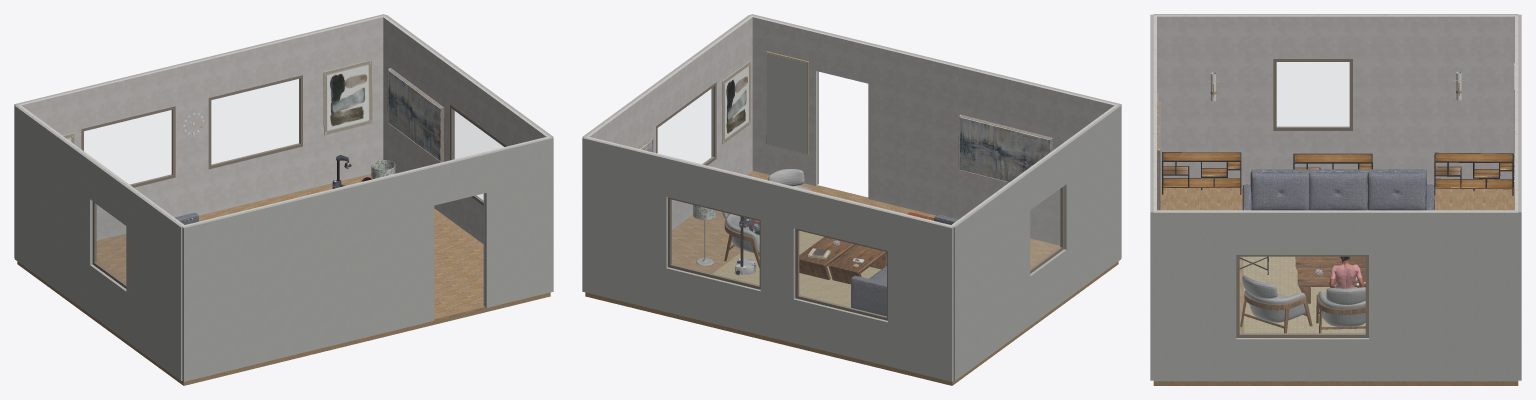
The picture shows the model from 3 angles, left to right: view 1: azimuth 30°, elevation 25°; view 2: azimuth 150°, elevation 25°; view 3: azimuth 270°, elevation 25°; orthographic projection. The views are drawn at different scales.
Parts seen in each view (by area): view 1: world (×10), glass (×4), room_geometry_living_room__v0, frame (×4); view 2: world (×15), glass (×4), room_geometry_living_room__v0, frame (×3), wood.001 (×2), living_room_rug_0; view 3: world (×15), glass (×2), room_geometry_living_room__v0, living_room_rug_0, frame (×2), wood.001 (×2), base_link.
Boxes of the visible parts, box(x1,y1,x2,y2) form: world (×10): box(14, 14, 553, 381); glass (×4): box(84, 79, 502, 283); room_geometry_living_room__v0: box(17, 174, 550, 385); frame (×4): box(81, 75, 506, 288); world (×15): box(582, 14, 1121, 381); glass (×4): box(658, 87, 1060, 316); room_geometry_living_room__v0: box(585, 171, 1118, 385); frame (×3): box(656, 82, 887, 320); wood.001 (×2): box(799, 237, 886, 284); living_room_rug_0: box(713, 231, 881, 307); world (×15): box(1150, 14, 1521, 381); glass (×2): box(1240, 62, 1365, 333); room_geometry_living_room__v0: box(1153, 185, 1518, 385); living_room_rug_0: box(1243, 256, 1365, 333); frame (×2): box(1236, 59, 1368, 337); wood.001 (×2): box(1295, 256, 1365, 303); base_link: box(1331, 264, 1359, 288).
Size of the model in its own units: 7.1 by 2.9 by 5.6.
46 materials, 22 textured.
